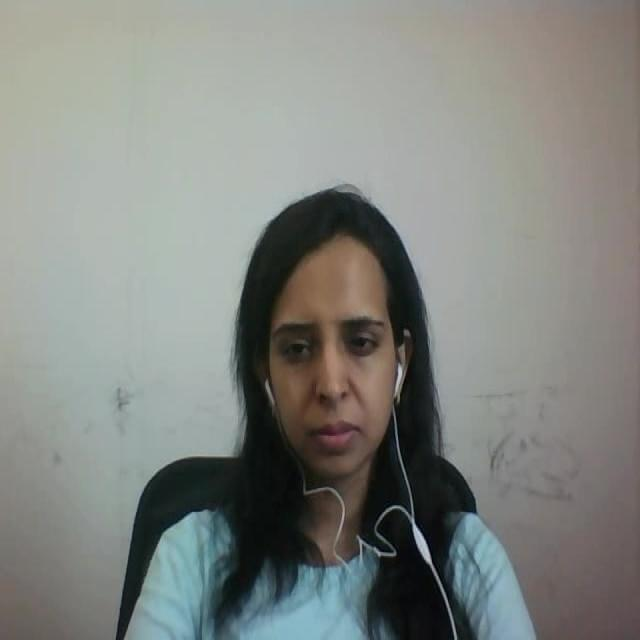Engaged: (216, 188, 455, 496)
